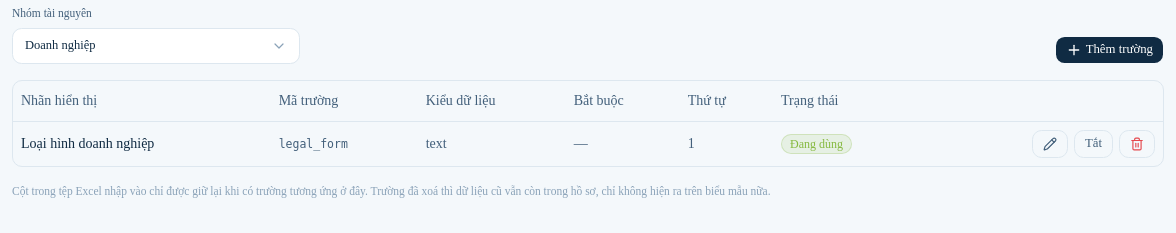
Test: Tắt / Bật a field (ADR 0079 lô 6 #3, prototype AssetFieldTable.tsx:236-238) › refusal: the server's sentence shows, no success toast
This screenshot has width=1176, height=233.
Click the button with aria-label "Tắt trường Loại hình doanh nghiệp" at [1093, 144], box [1074,130,1113,158]
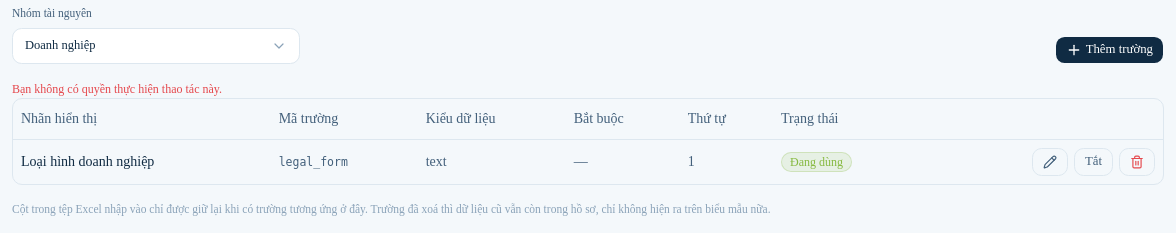
Now the text "Bạn không có quyền thực hiện thao tác này." is shown, box [12,82,222,96]
